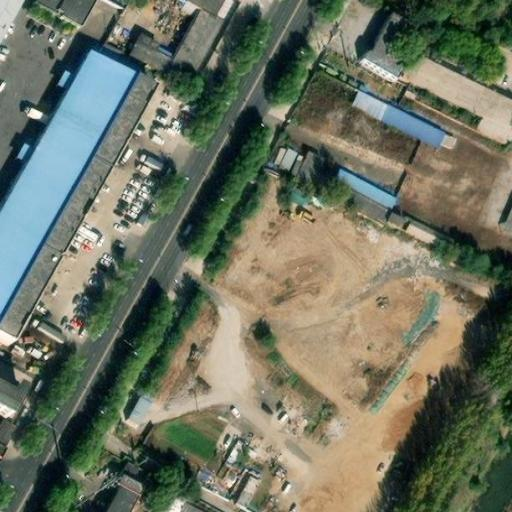building: (288, 147, 439, 248), (400, 48, 512, 144), (131, 0, 234, 86), (350, 91, 448, 152), (367, 8, 426, 74), (112, 457, 157, 499), (36, 0, 96, 28), (128, 389, 162, 425), (155, 490, 206, 512), (269, 138, 302, 170), (236, 476, 265, 512), (0, 391, 29, 424), (107, 487, 136, 512), (498, 191, 512, 232)
